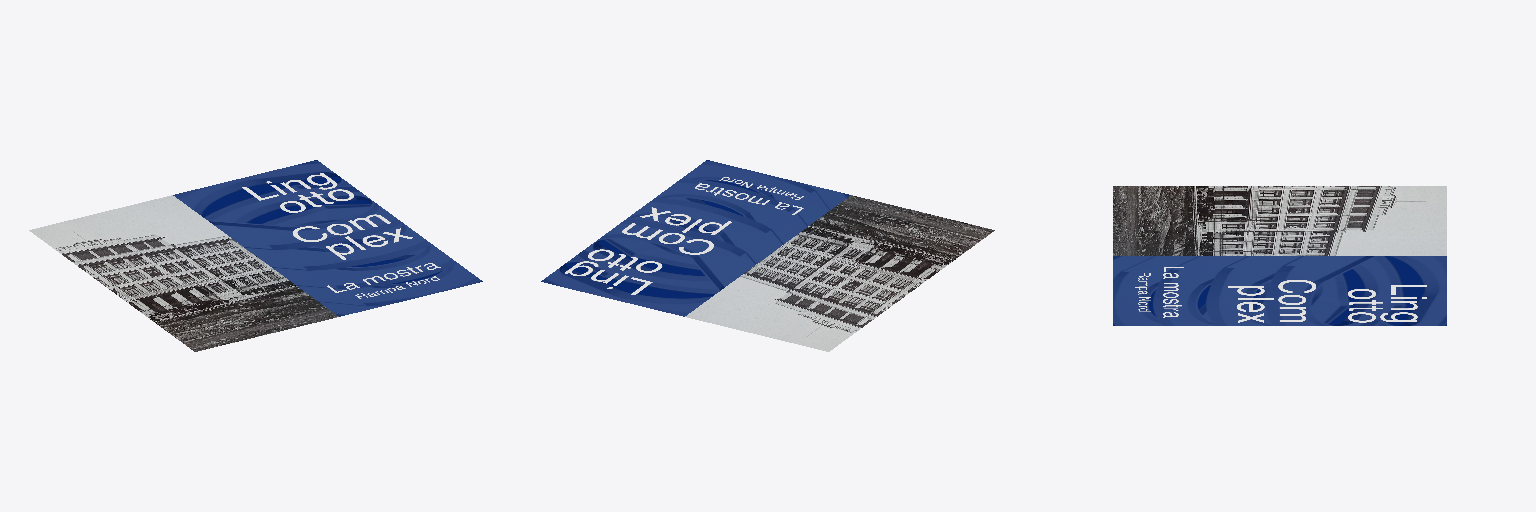
3 views of the same model, side by side, from view 1: azimuth 30°, elevation 25°; view 2: azimuth 150°, elevation 25°; view 3: azimuth 270°, elevation 25° (orthographic).
Parts seen in each view (by area): view 1: Plane001; view 2: Plane001; view 3: Plane001.
Part boxes in pixels (x1,y1,x2,y2): Plane001: (29, 160, 482, 351); Plane001: (541, 160, 994, 351); Plane001: (1113, 186, 1446, 325).
Size of the model in its own units: 39.37 by 0 by 39.37.
1 materials, 1 textured.